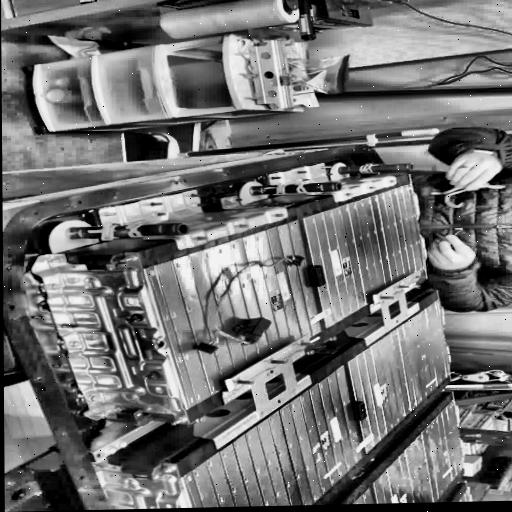battery_module: (143, 220, 323, 410), (180, 365, 364, 508), (304, 184, 425, 329), (348, 300, 446, 452), (373, 399, 463, 504)
